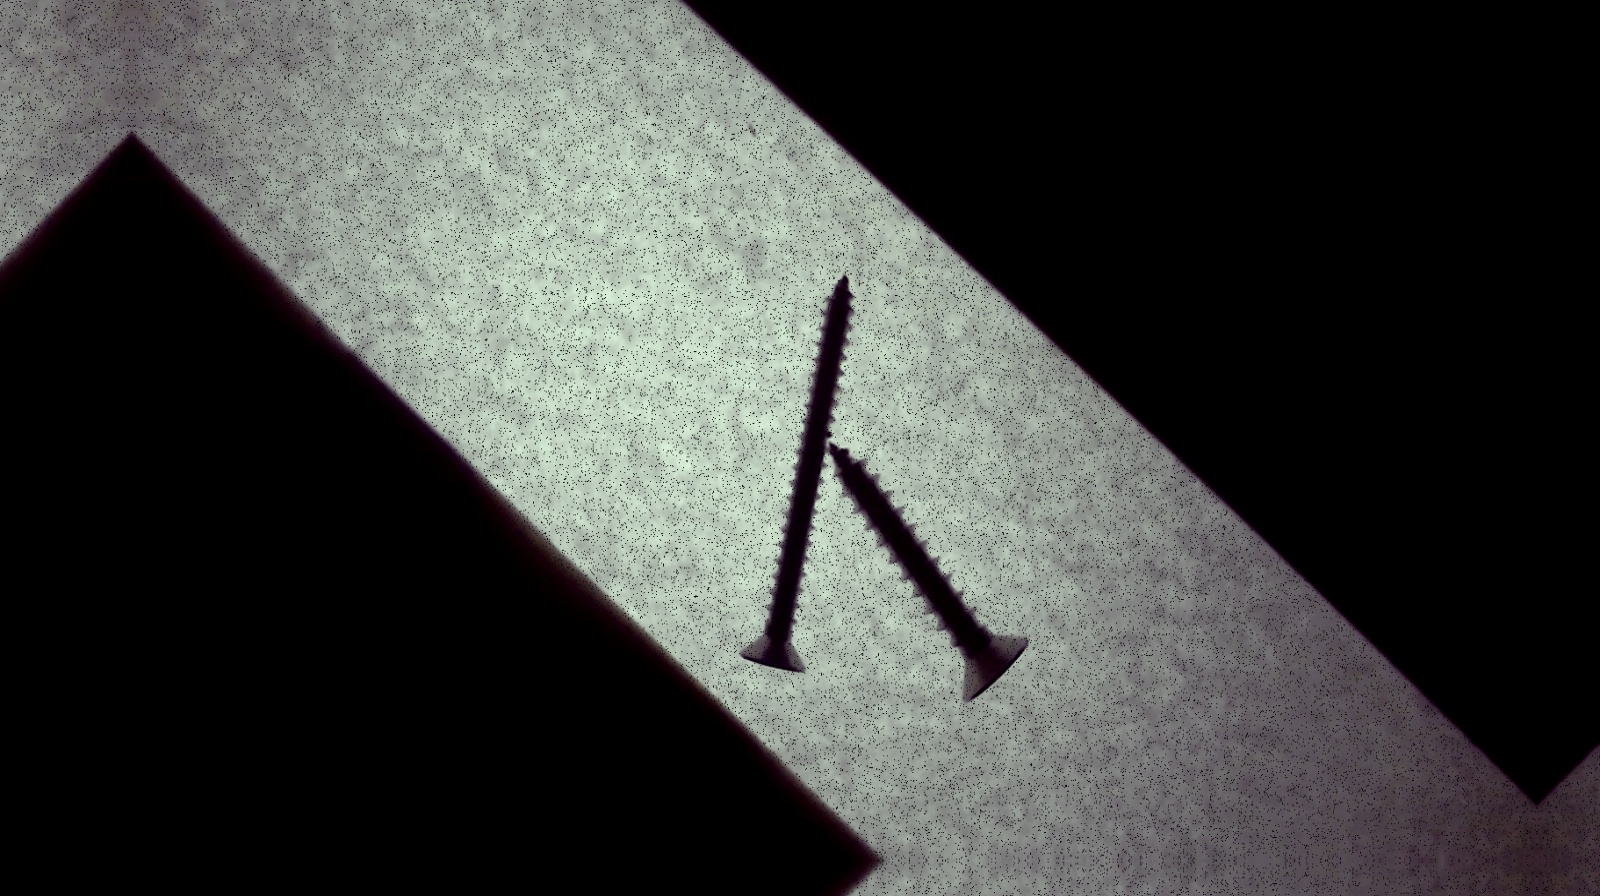S001: (819, 430, 1033, 710)
S002: (737, 266, 865, 676)
